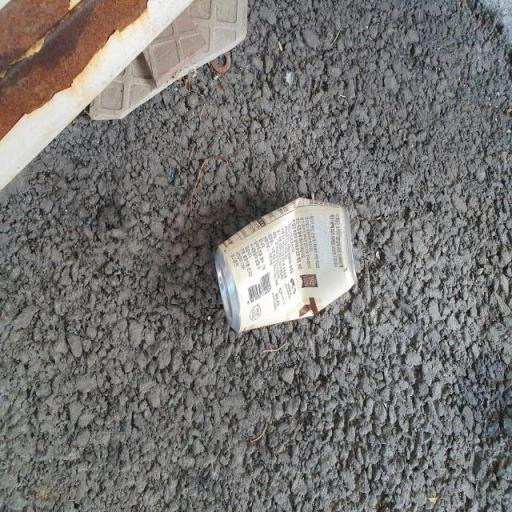metal: (181, 170, 365, 348)
